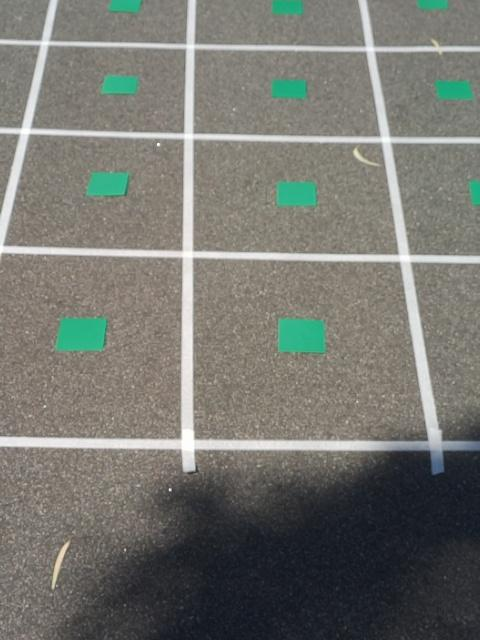weed: (52, 314, 108, 356), (277, 317, 327, 357), (86, 169, 130, 199), (274, 180, 316, 208), (434, 78, 473, 103), (101, 73, 139, 97), (270, 77, 307, 101), (272, 0, 303, 18), (108, 0, 141, 14), (418, 0, 444, 12), (470, 180, 480, 206)
